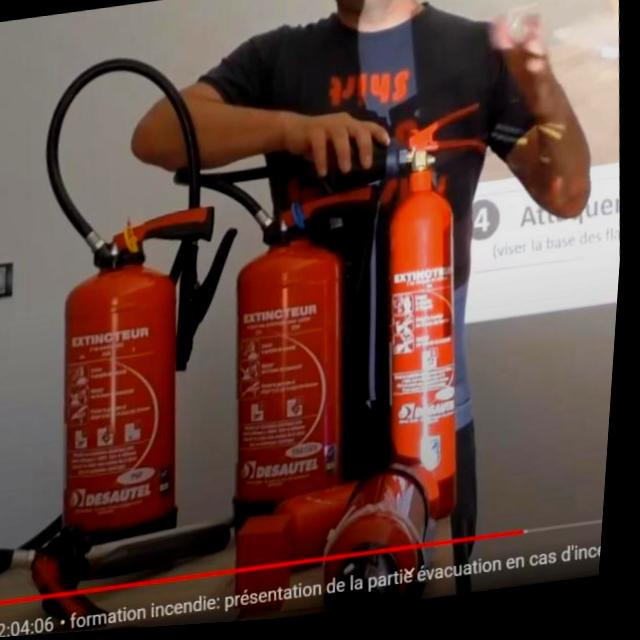FireExtinguisher: (11, 33, 276, 591), (143, 126, 426, 589), (299, 100, 522, 547), (311, 452, 467, 620)
